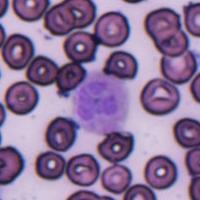N: (73, 72, 130, 134)
